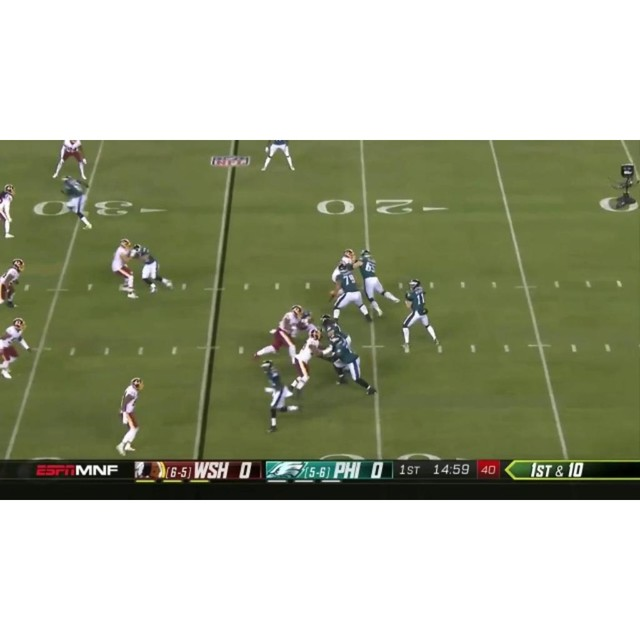american-football-player: (259, 357, 302, 432), (326, 331, 375, 396), (401, 279, 440, 353), (356, 249, 399, 316), (254, 305, 304, 362), (291, 329, 331, 390), (331, 264, 372, 323), (131, 244, 174, 295), (118, 378, 143, 455), (0, 318, 31, 380), (60, 175, 92, 230), (110, 239, 139, 298), (328, 248, 357, 303), (52, 140, 88, 181), (0, 258, 25, 309), (319, 313, 352, 347), (261, 140, 294, 171), (0, 183, 16, 239)
